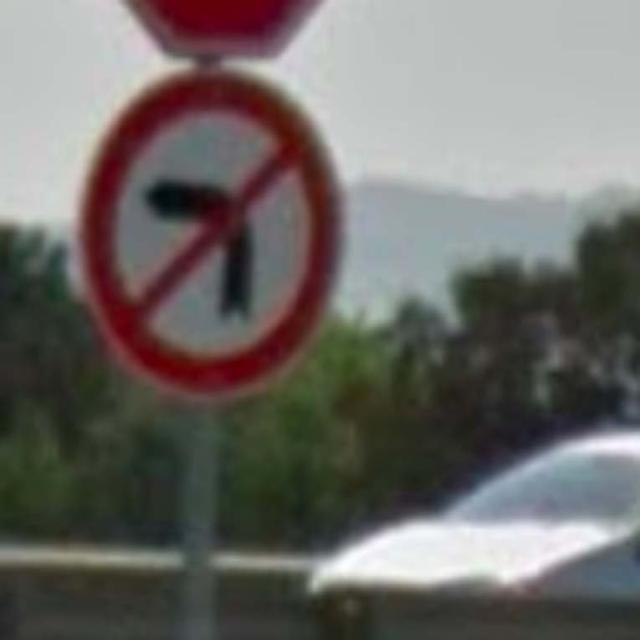soladonulmez: (79, 69, 346, 402)
